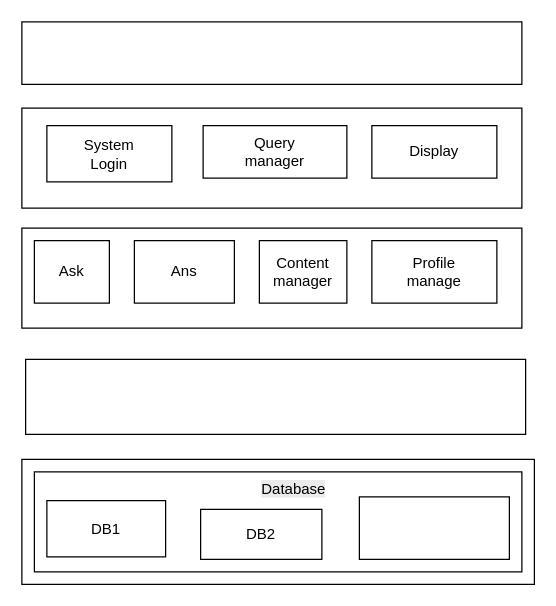
This 556x606 diagram has some shape labels left out. The centre of each missing label's shape, as x and y in pixels:
DB3: the point at 433,527
Question or Answer Index: the point at 275,396
Web browser Interface: the point at 271,52
